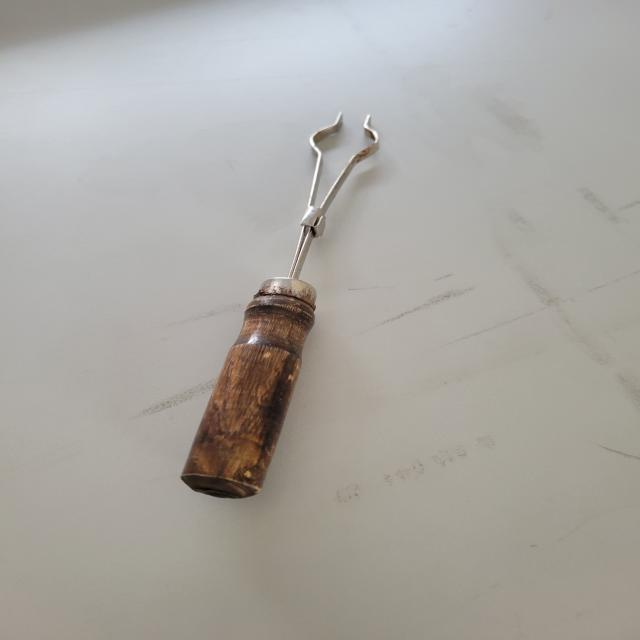TestTube_Holder: (149, 78, 426, 534)
